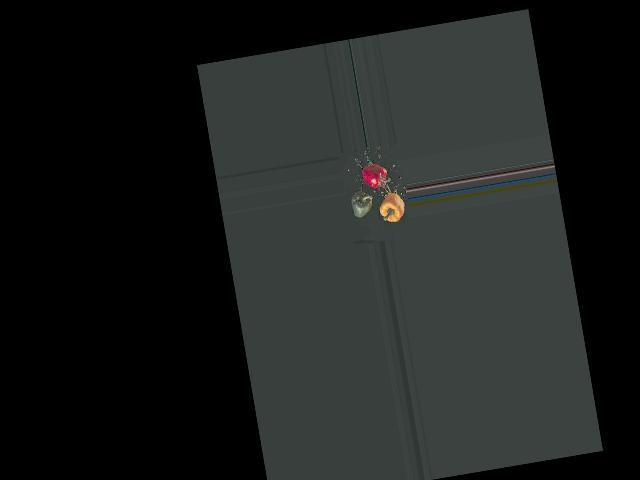bell_pepper: (355, 160, 396, 195)
